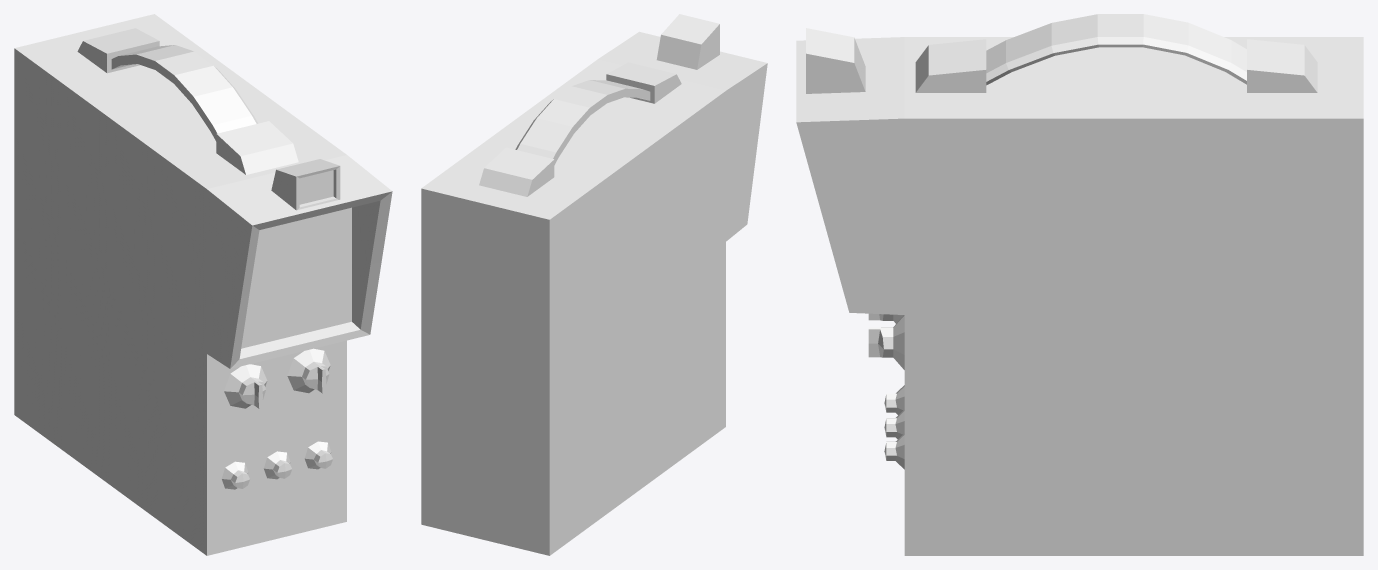
The model's file is monitoringdevice.glb.
3 views of the same model, side by side, from view 1: azimuth 30°, elevation 25°; view 2: azimuth 150°, elevation 25°; view 3: azimuth 270°, elevation 25° (orthographic). The views are drawn at different scales.
Visible parts, largest first — view 1: commsdevice; view 2: commsdevice; view 3: commsdevice.
Boxes of the visible parts, <box> form: commsdevice: <box>14,14,392,555</box>; commsdevice: <box>421,14,767,555</box>; commsdevice: <box>796,14,1363,555</box>.
Size of the model in its own units: 0.343 by 0.9579 by 1.01.
1 material, 1 textured.
